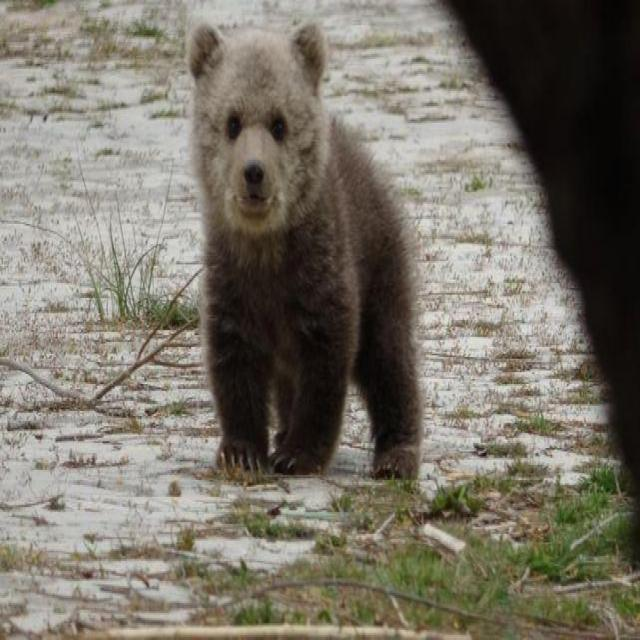Bear: (186, 20, 425, 483)
